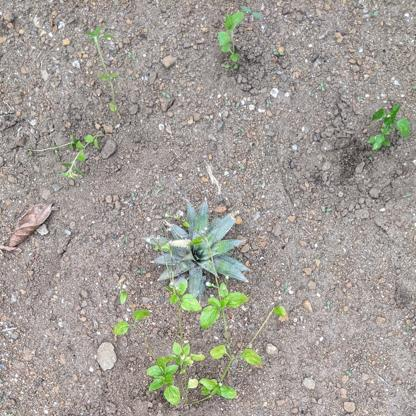pineapple: (141, 197, 252, 298)
weed: (114, 286, 287, 407), (369, 102, 416, 153), (61, 131, 104, 179), (217, 11, 244, 69)
